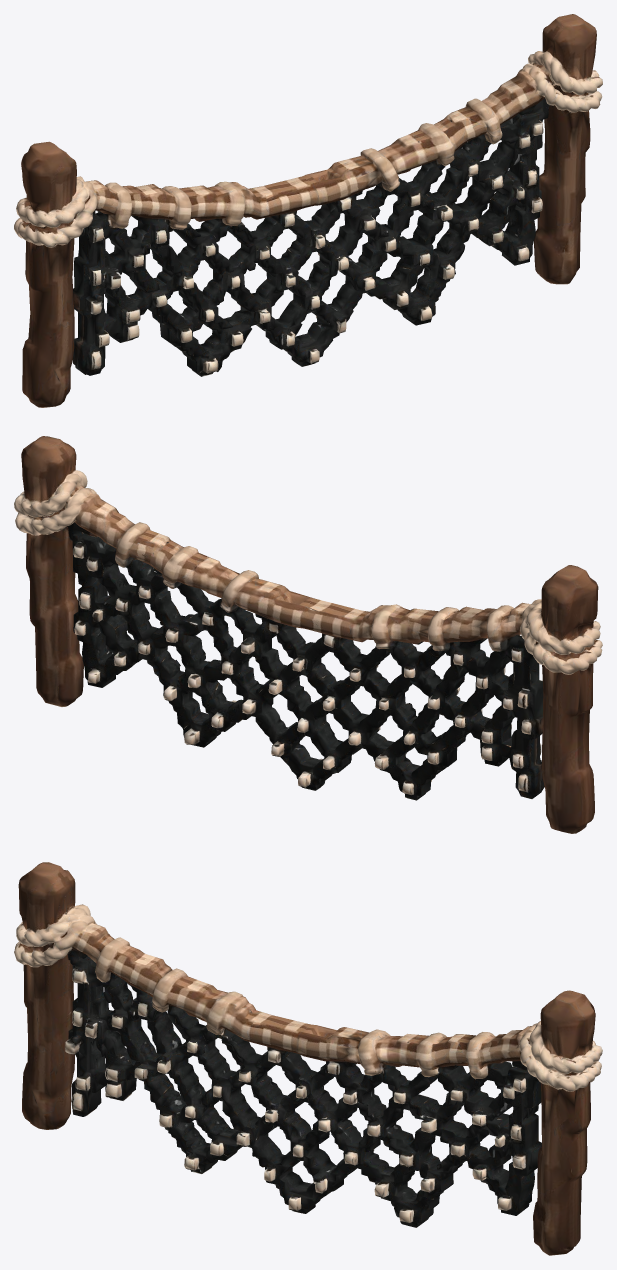
File: fishers_net_optimized.glb
The picture shows the model from 3 angles, top to bottom: view 1: azimuth 30°, elevation 25°; view 2: azimuth 150°, elevation 25°; view 3: azimuth 330°, elevation 25°; orthographic projection.
Size of the model in its own units: 1.9 by 0.8831 by 0.214.
Materials: 1 (1 with a texture image).
